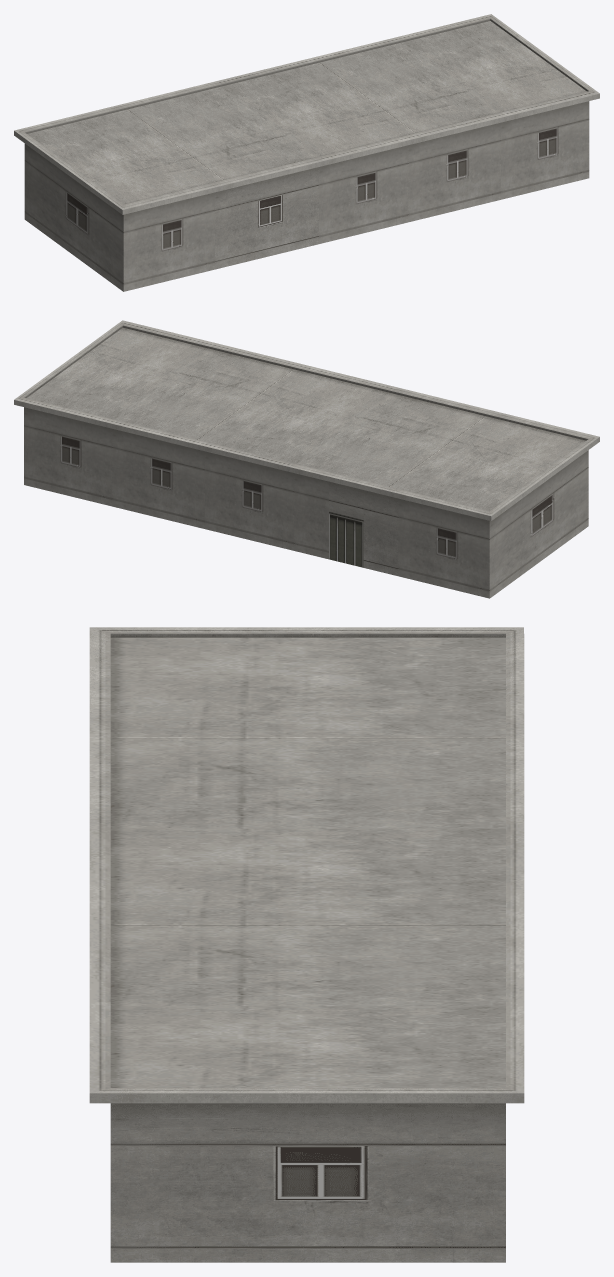
File: workshop_07.obj
The picture shows the model from 3 angles, top to bottom: view 1: azimuth 30°, elevation 25°; view 2: azimuth 150°, elevation 25°; view 3: azimuth 270°, elevation 25°; orthographic projection. The views are drawn at different scales.
Parts seen in each view (by area): view 1: Object198; view 2: Object198; view 3: Object198.
Part boxes in pixels (x1,y1,x2,y2): Object198: (14,14,599,291); Object198: (14,320,599,598); Object198: (89,627,524,1262).
Bounding box in the file's own units: 95.13 × 16.61 × 37.49.
